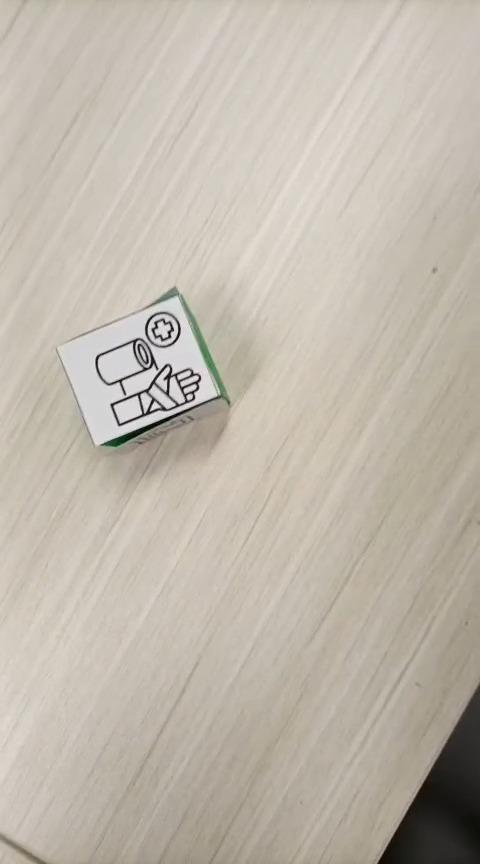Bandages: (54, 285, 231, 449)
